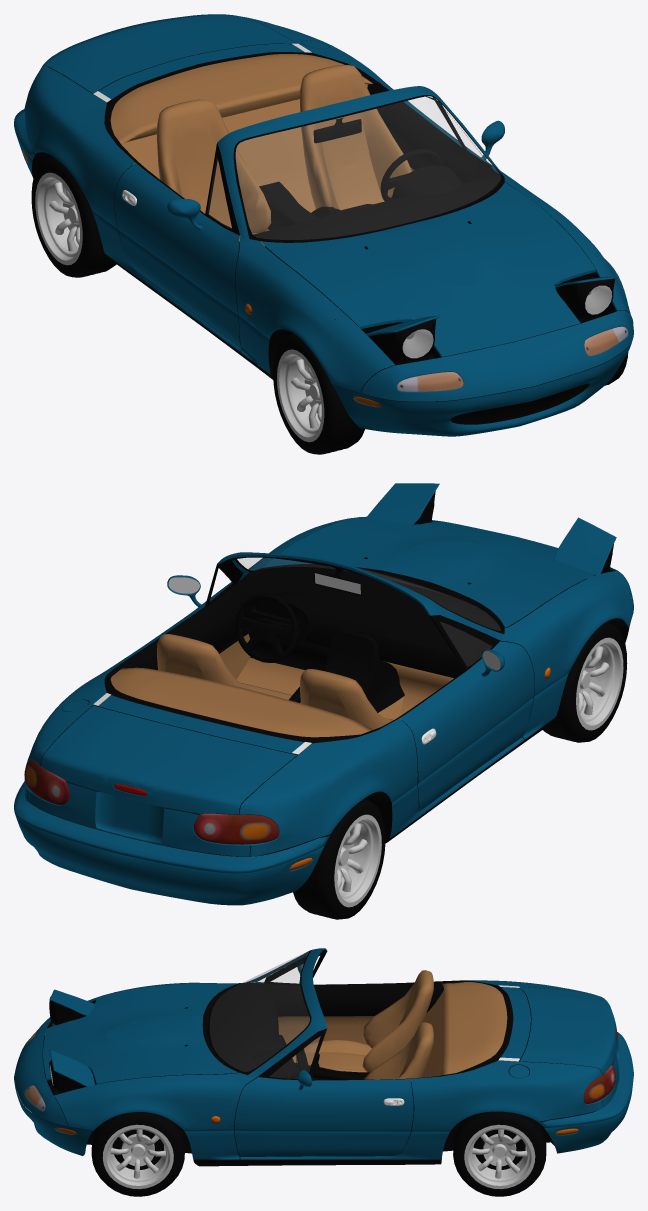
The model's file is miata.glb.
The picture shows the model from 3 angles, top to bottom: view 1: azimuth 30°, elevation 25°; view 2: azimuth 150°, elevation 25°; view 3: azimuth 270°, elevation 25°; orthographic projection. The views are drawn at different scales.
Parts seen in each view (by area): view 1: Body, Right Front, Right Rear, Lights, Interior Shell; view 2: Body, Right Rear, Right Front, Lights, Interior Shell; view 3: Body, Left Rear, Left Front, Lights, Interior Shell.
Boxes of the visible parts, x1=… form: Body: x1=14, y1=14, x2=633, y2=436; Right Front: x1=273, y1=333, x2=364, y2=454; Right Rear: x1=31, y1=156, x2=116, y2=277; Lights: x1=366, y1=276, x2=617, y2=361; Interior Shell: x1=28, y1=43, x2=618, y2=424; Body: x1=14, y1=516, x2=633, y2=905; Right Rear: x1=293, y1=798, x2=385, y2=919; Right Front: x1=543, y1=622, x2=627, y2=742; Lights: x1=366, y1=483, x2=616, y2=580; Interior Shell: x1=40, y1=524, x2=617, y2=856; Body: x1=14, y1=948, x2=633, y2=1166; Left Rear: x1=453, y1=1111, x2=546, y2=1196; Left Front: x1=91, y1=1112, x2=184, y2=1196; Lights: x1=49, y1=989, x2=94, y2=1093; Interior Shell: x1=37, y1=990, x2=614, y2=1163.
Size of the model in its own units: 1.24 by 0.8024 by 2.66.
14 materials, 1 textured.
